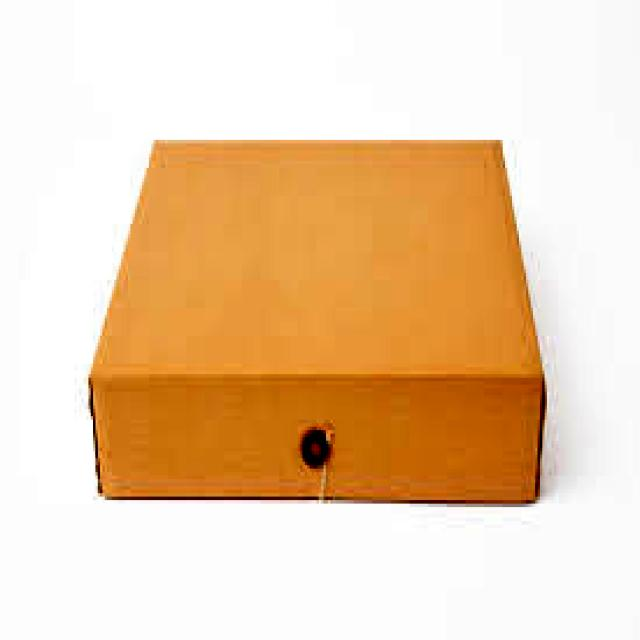Cardboard: (80, 129, 550, 514)
